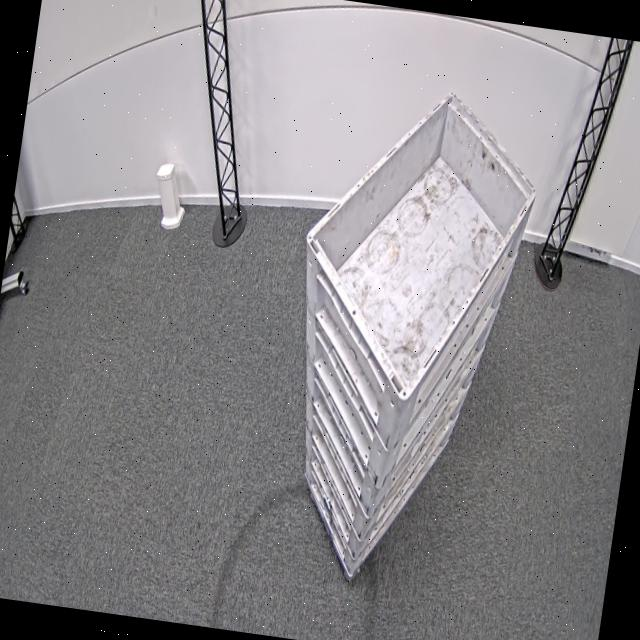Roll3G: (284, 70, 550, 421)
